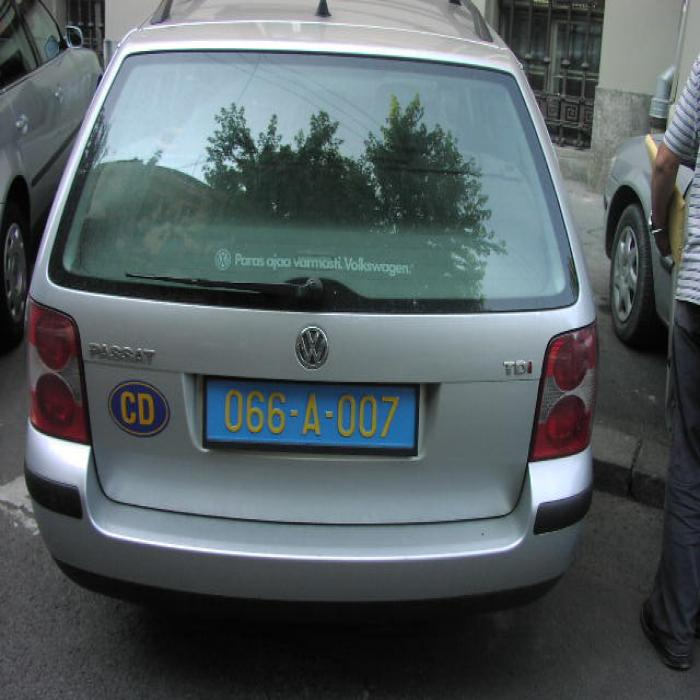number_plate: (204, 380, 414, 444)
